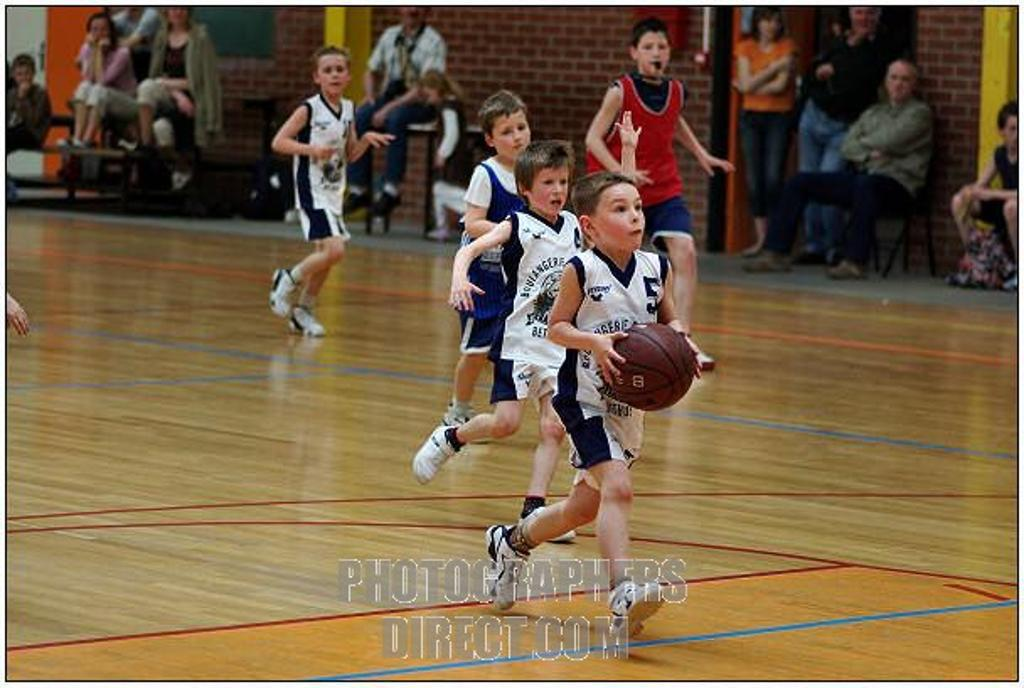face: (600, 196, 646, 250), (535, 173, 570, 215), (498, 118, 532, 158), (641, 38, 670, 79), (321, 58, 347, 95), (890, 67, 911, 99), (853, 6, 876, 31), (763, 16, 779, 41), (404, 7, 426, 24), (171, 9, 188, 28), (16, 67, 31, 86), (92, 21, 107, 40), (425, 88, 438, 105)
